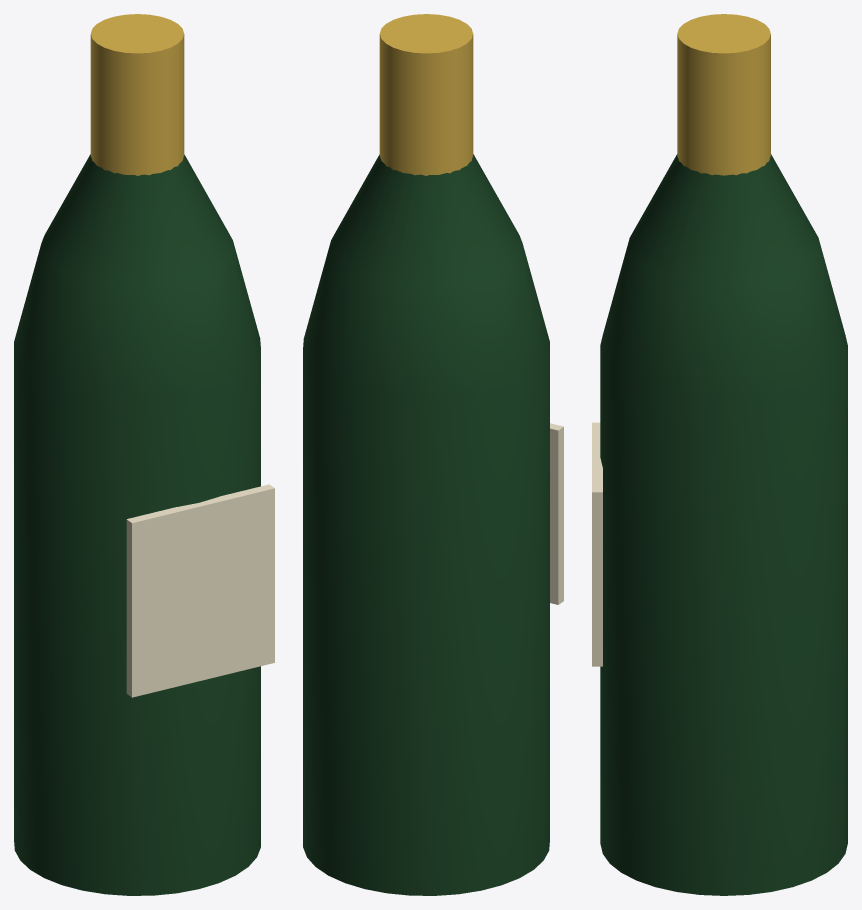
The model's file is champagne.glb.
3 renders of one model, left to right at view 1: azimuth 30°, elevation 25°; view 2: azimuth 150°, elevation 25°; view 3: azimuth 270°, elevation 25°, orthographic.
Visible parts, largest first — view 1: bottle, Cube, Cylinder; view 2: bottle, Cylinder, Cube; view 3: bottle, Cylinder, Cube.
Part boxes in pixels (x1,y1,x2,y2): bottle: (14, 154, 260, 895); Cube: (126, 484, 274, 697); Cylinder: (90, 14, 184, 175); bottle: (303, 154, 549, 895); Cylinder: (379, 14, 473, 175); Cube: (550, 423, 563, 604); bottle: (600, 154, 847, 895); Cylinder: (677, 14, 770, 175); Cube: (592, 422, 602, 666).
Size of the model in its own units: 0.09 by 0.325 by 0.093.
